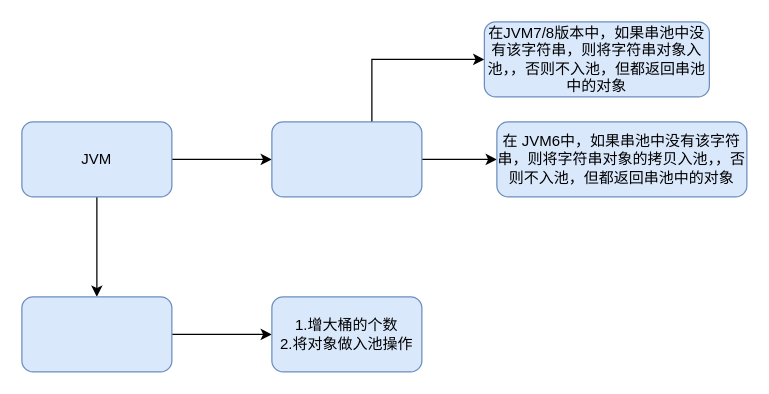
This 769x394 diagram has some shape labels left out. The shapes that lost their labels are listed below. From the top down, each one's centre as x and y in pixels, then its label:
the point at 346,159: inserten方法
the point at 96,334: StringTable调优
